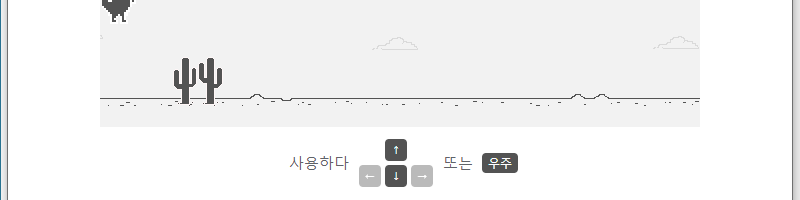dinosaur: (101, 1, 137, 25)
obstacle: (169, 55, 226, 106)
